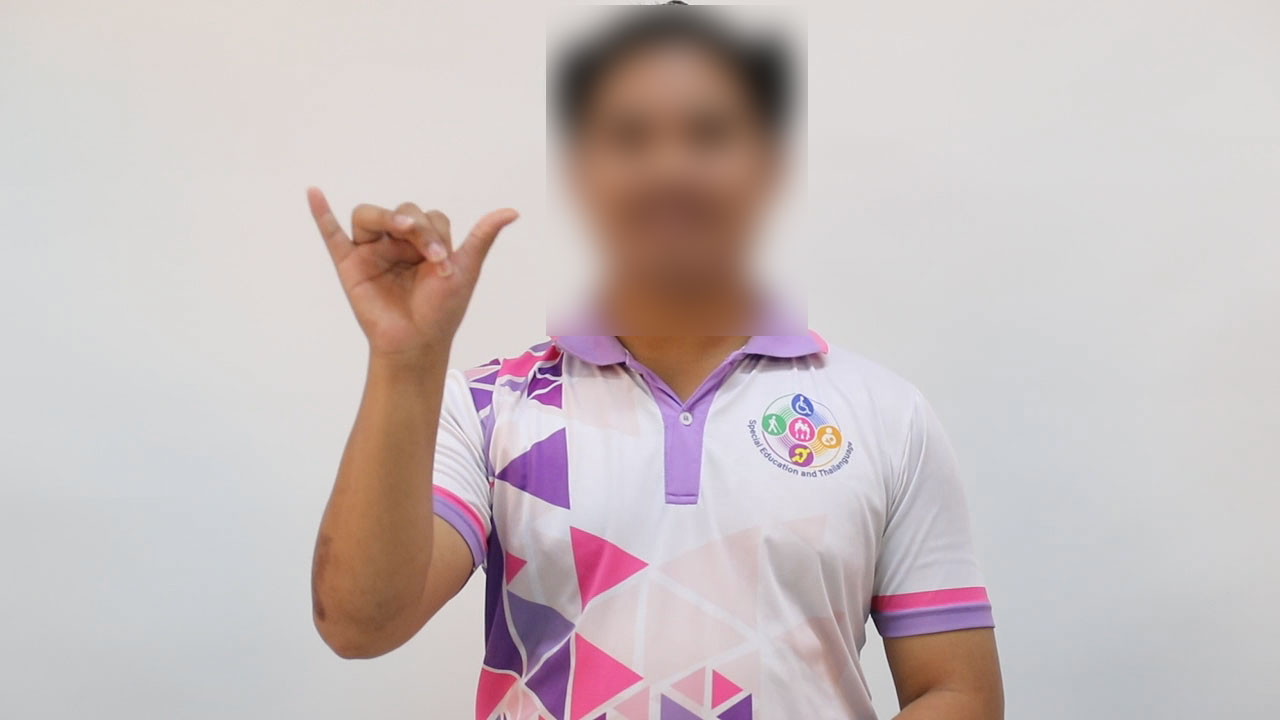yor: (273, 172, 543, 366)
